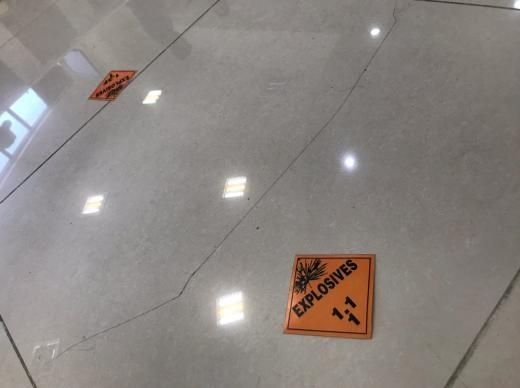explosive: (282, 253, 377, 339), (87, 68, 137, 101)
